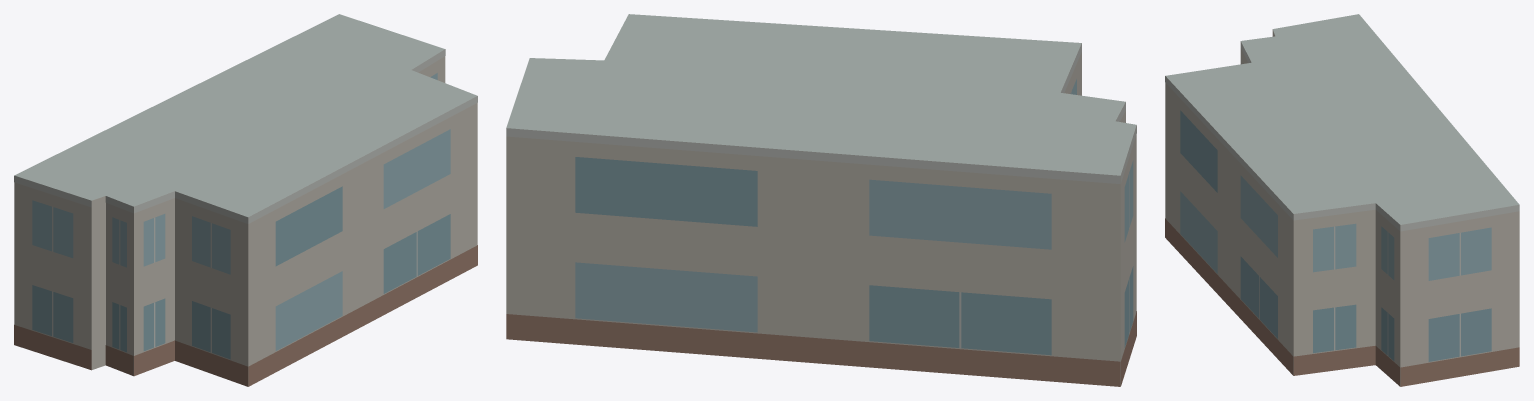
The model's file is survey-upis-32777061.glb.
3 views of the same model, side by side, from view 1: azimuth 30°, elevation 25°; view 2: azimuth 150°, elevation 25°; view 3: azimuth 270°, elevation 25° (orthographic). The views are drawn at different scales.
Visible parts, largest first — view 1: survey-upis-32777061.tmp; view 2: survey-upis-32777061.tmp; view 3: survey-upis-32777061.tmp.
Part boxes in pixels (box(x1,y1,x2,y2)): survey-upis-32777061.tmp: box(14, 14, 477, 386); survey-upis-32777061.tmp: box(506, 14, 1136, 386); survey-upis-32777061.tmp: box(1165, 14, 1519, 386).
Size of the model in its own units: 17.06 by 6.1 by 12.11.
